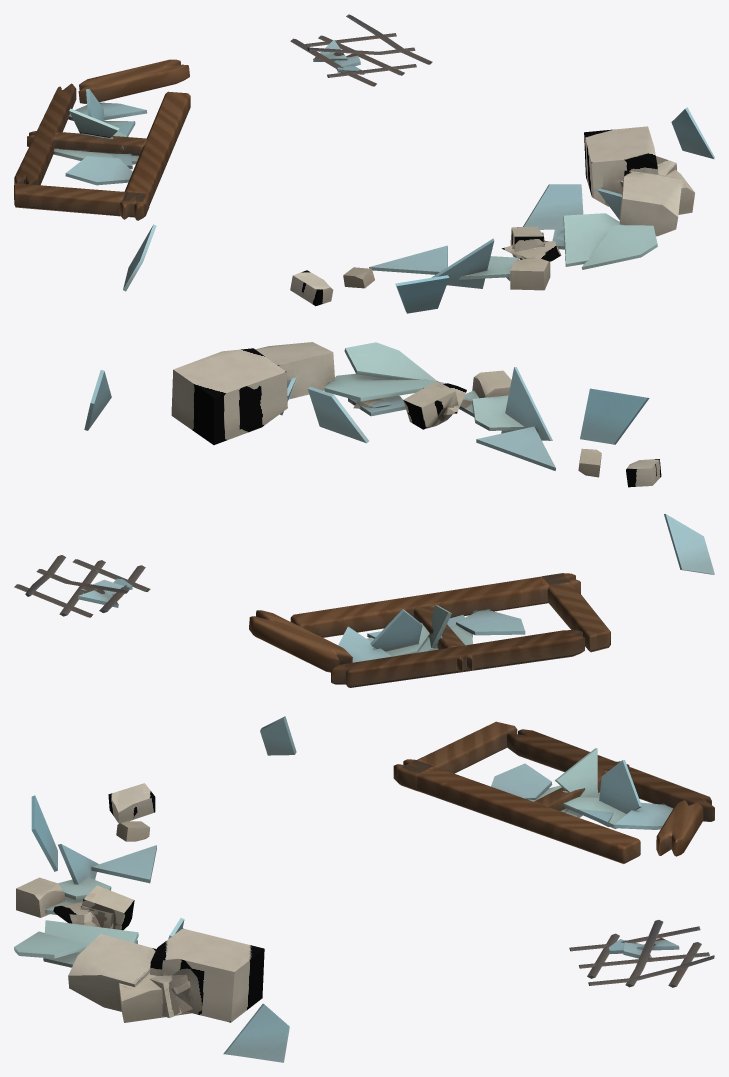
The model's file is rough-glass-2.hq.glb.
3 renders of one model, top to bottom at view 1: azimuth 30°, elevation 25°; view 2: azimuth 150°, elevation 25°; view 3: azimuth 270°, elevation 25°, orthographic. The views are drawn at different scales.
Visible parts, largest first — view 1: rough-glass-2; view 2: rough-glass-2; view 3: rough-glass-2.
Boxes of the visible parts, <box> form: rough-glass-2: <box>14,14,714,313</box>; rough-glass-2: <box>14,342,714,687</box>; rough-glass-2: <box>14,716,714,1062</box>.
Size of the model in its own units: 1.5 by 0.1486 by 1.42.
1 material, 1 textured.
